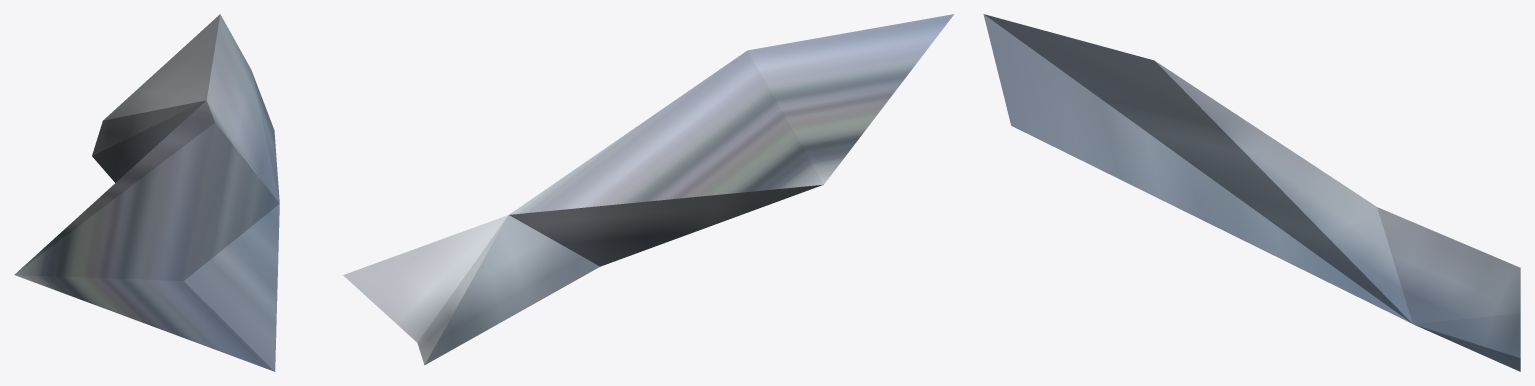
3 renders of one model, left to right at view 1: azimuth 30°, elevation 25°; view 2: azimuth 150°, elevation 25°; view 3: azimuth 270°, elevation 25°, orthographic. The views are drawn at different scales.
Bounding box in the file's own units: 0.0734 × 0.0459 × 0.1064.
Materials: 1 (1 with a texture image).
